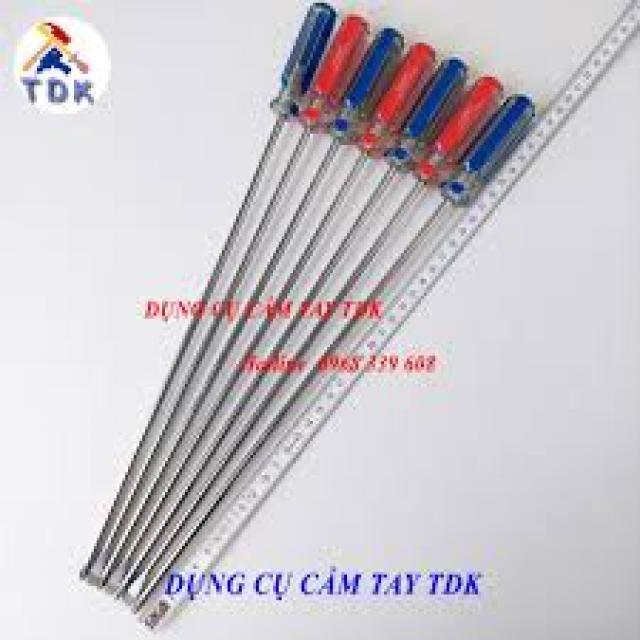screwdriver: (130, 86, 538, 618), (118, 70, 508, 610), (104, 51, 474, 606), (95, 39, 445, 612), (85, 22, 407, 604), (75, 8, 374, 606), (75, 0, 340, 592)
